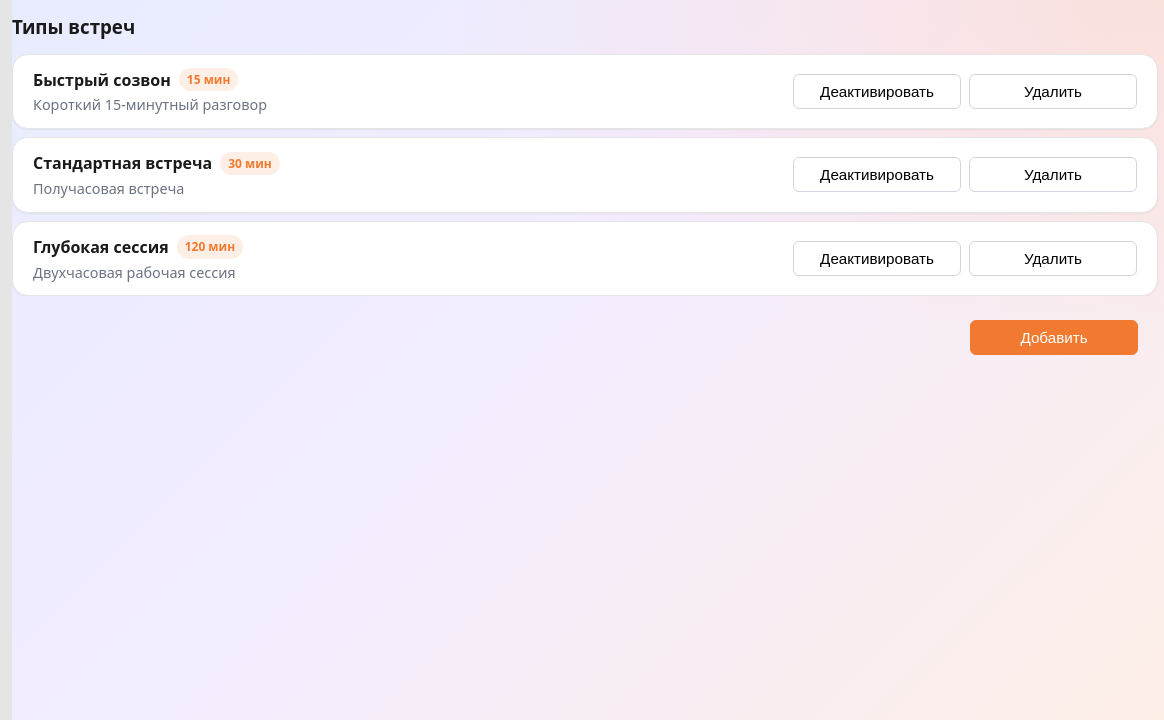
Scenario: EventTypeManager › деактивирует тип встречи
The width and height of the screenshot is (1164, 720).
Click the button "Деактивировать" in the row of "Короткий 15-минутный разговор": (877, 91) [793, 74, 961, 109]
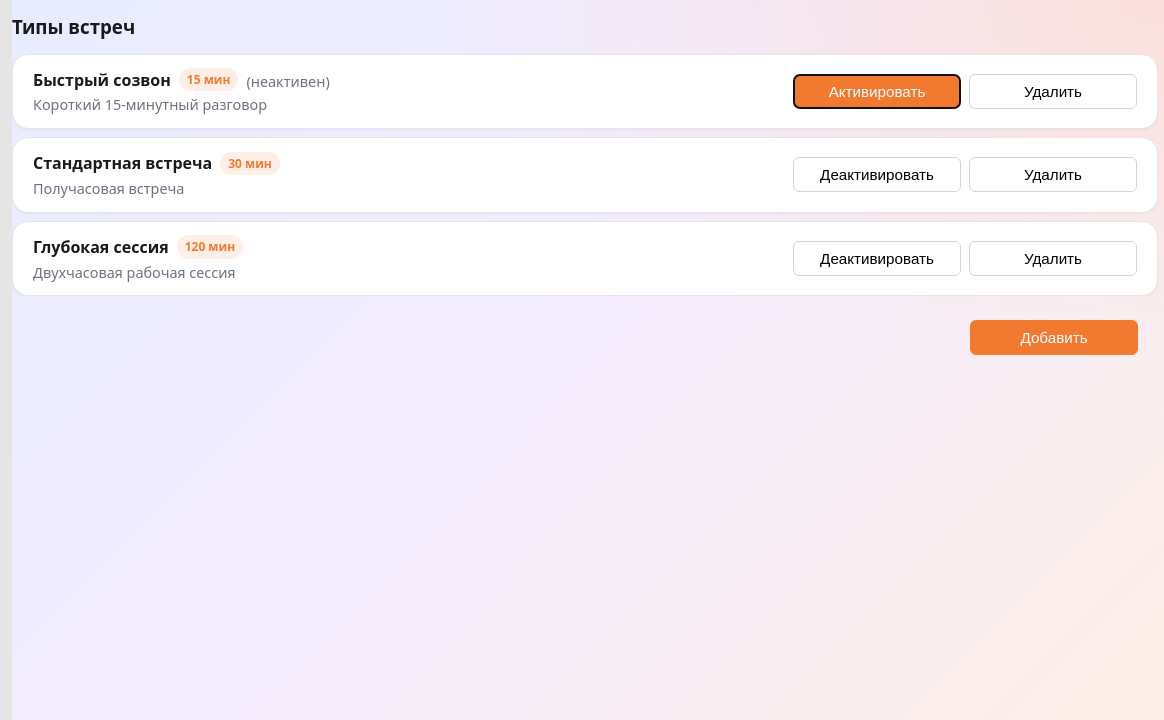
Now the text "(неактивен)" is shown, box [246, 72, 330, 91]
